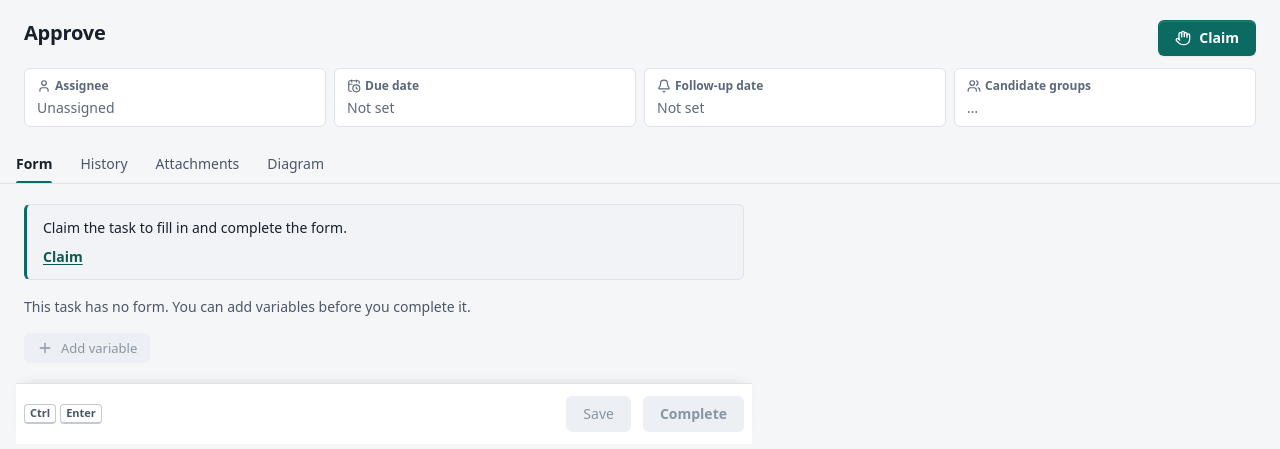
Scenario: completing a task whose claim is under way › goes back to the unclaimed task when the claim is refused, without sending the form
expect the button "Complete" is disabled: met, box [643,396,744,432]
Click the button "Claim" in the row of "Approve".
click(1207, 38)  # box [1158,20,1256,56]
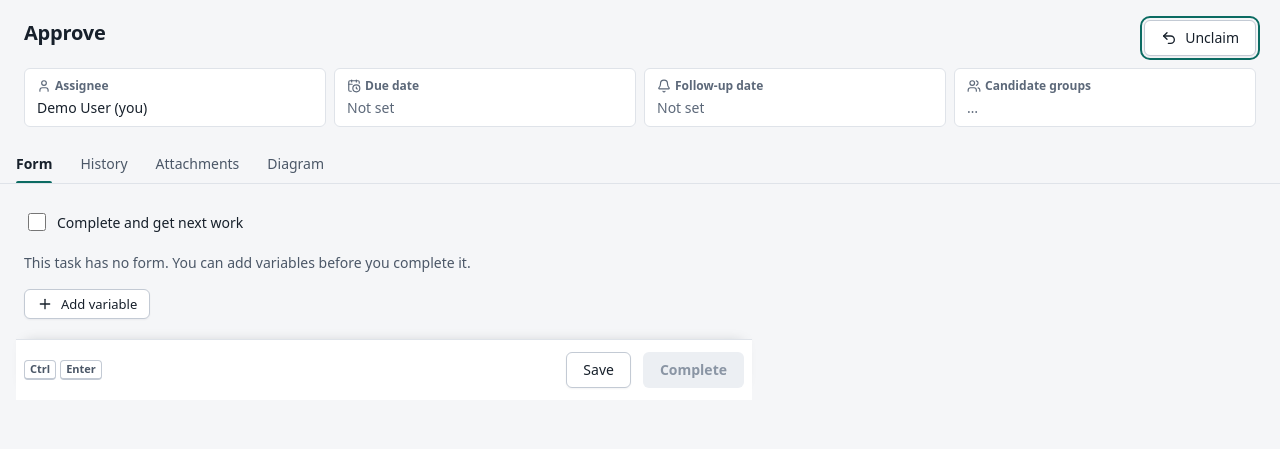
expect the button "Unclaim" is shown: met, box [1144,20,1256,56]
Submit the form "complete", box [24,252,744,400]
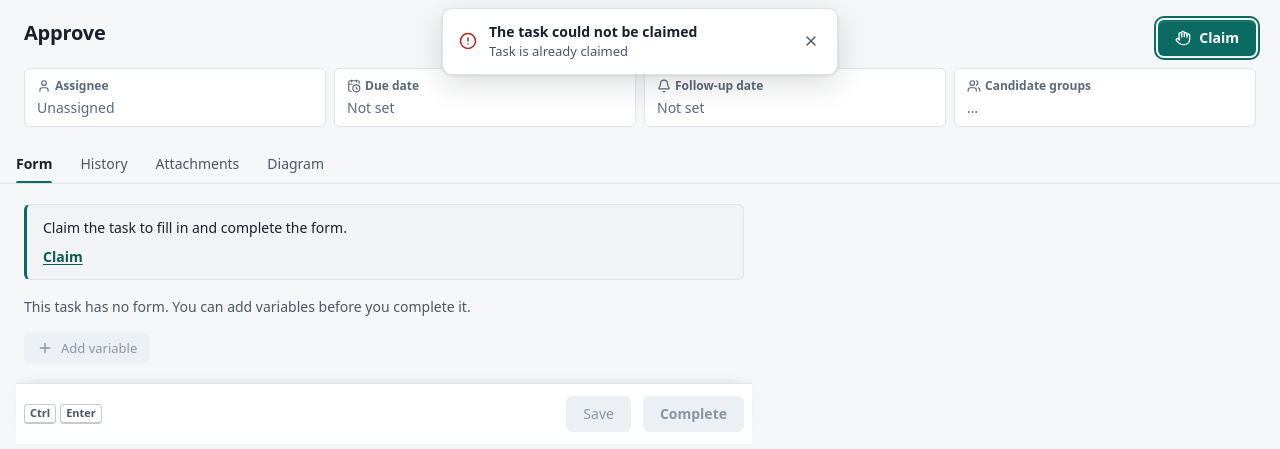
expect the button "Complete" is disabled: met, box [643,396,744,432]
expect the button "Unclaim" is gone: met
